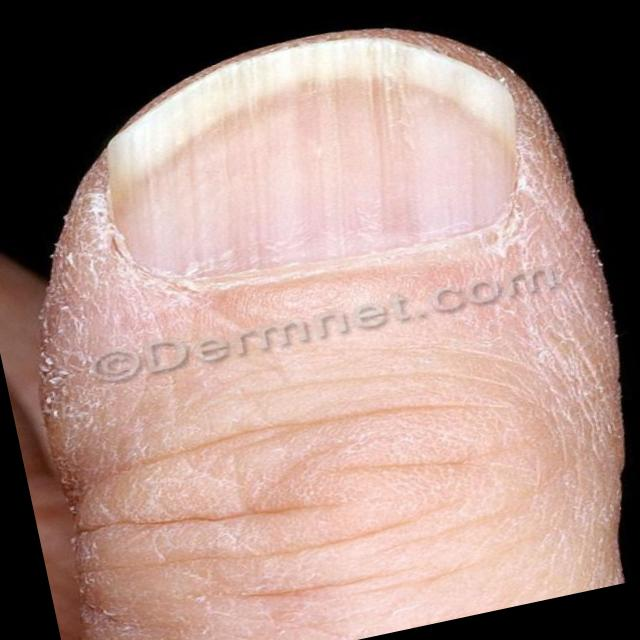Nail: (102, 38, 523, 276)
